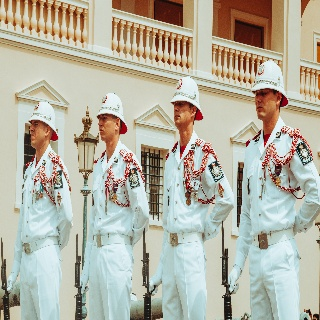rifle: (219, 219, 233, 320), (140, 227, 153, 320), (73, 232, 85, 320), (1, 235, 12, 320)
